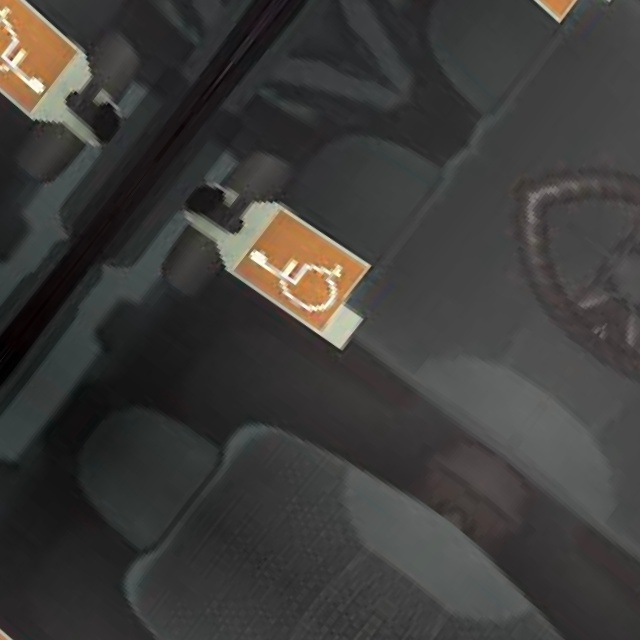ISA: (238, 215, 354, 325), (0, 0, 71, 106), (0, 615, 43, 640), (488, 0, 603, 3)
